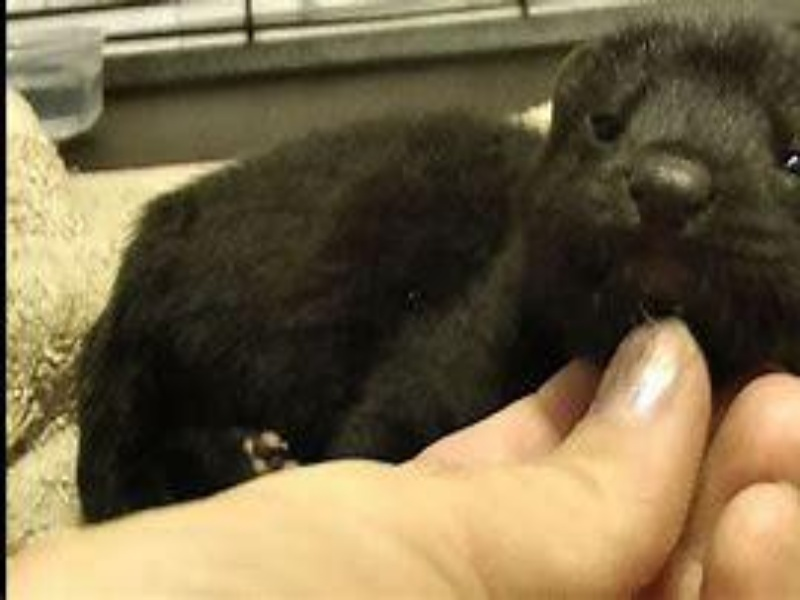minkish: (69, 13, 793, 527)
